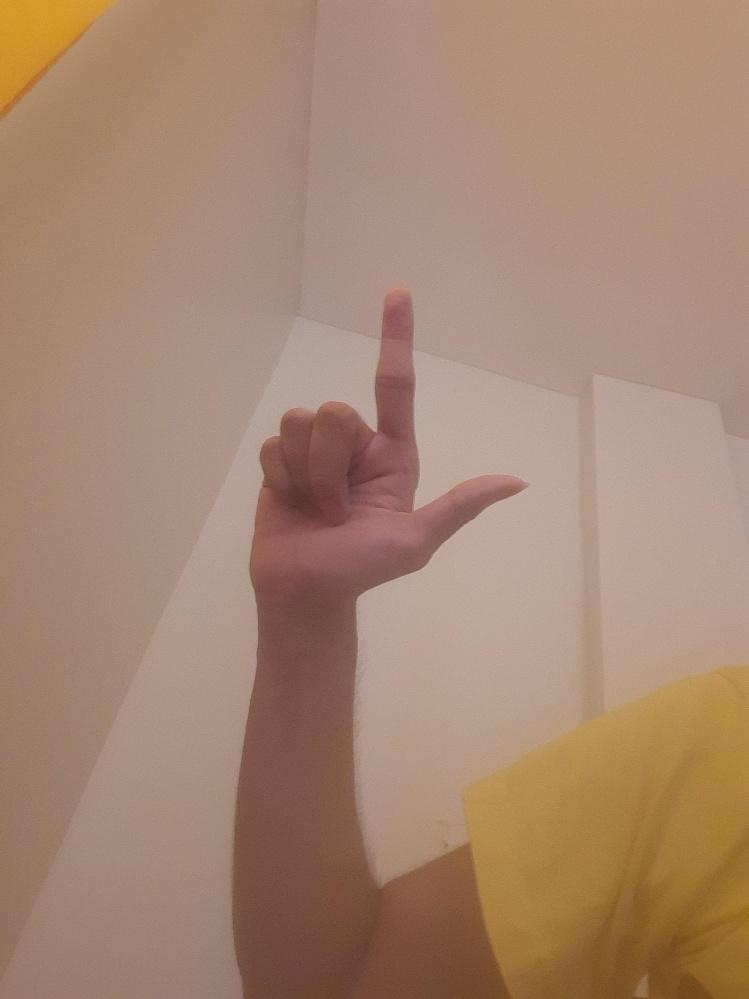l: (246, 286, 526, 590)
